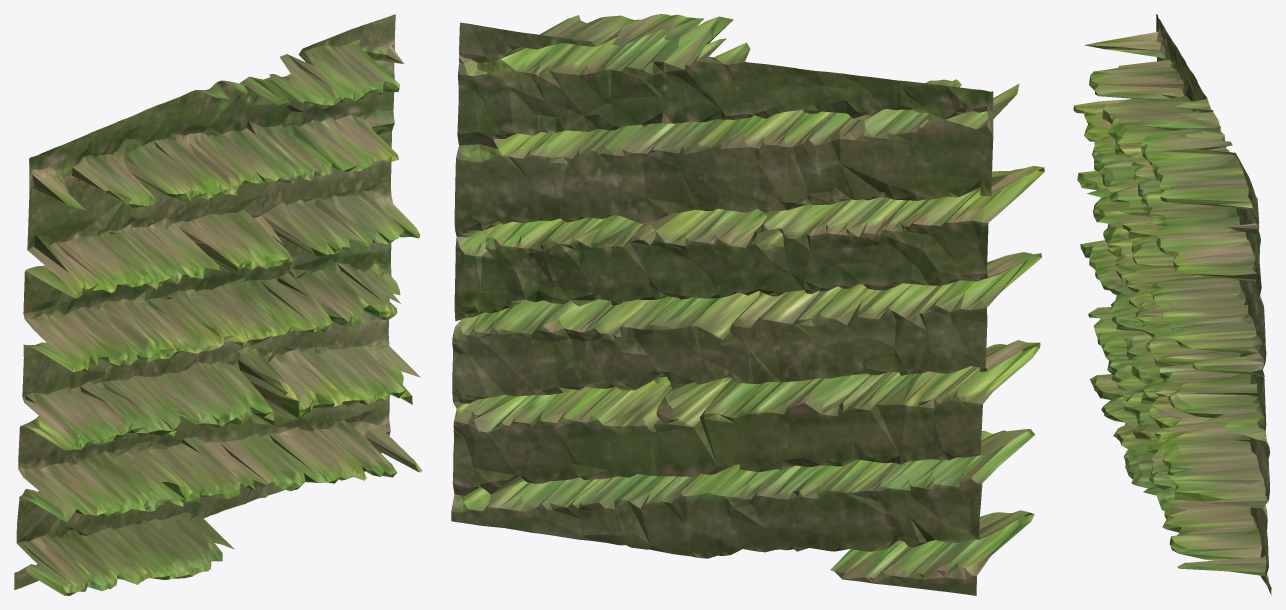
The model's file is map_120_0.obj.
3 renders of one model, left to right at view 1: azimuth 30°, elevation 25°; view 2: azimuth 150°, elevation 25°; view 3: azimuth 270°, elevation 25°, orthographic. The views are drawn at different scales.
Visible parts, largest first — view 1: grp1; view 2: grp1; view 3: grp1.
Boxes of the visible parts, x1=… form: grp1: x1=14, y1=14, x2=422, y2=595; grp1: x1=451, y1=14, x2=1044, y2=595; grp1: x1=1073, y1=14, x2=1271, y2=595.
Bounding box in the file's own units: 10 × 10 × 4.52.
Materials: 1 (1 with a texture image).
